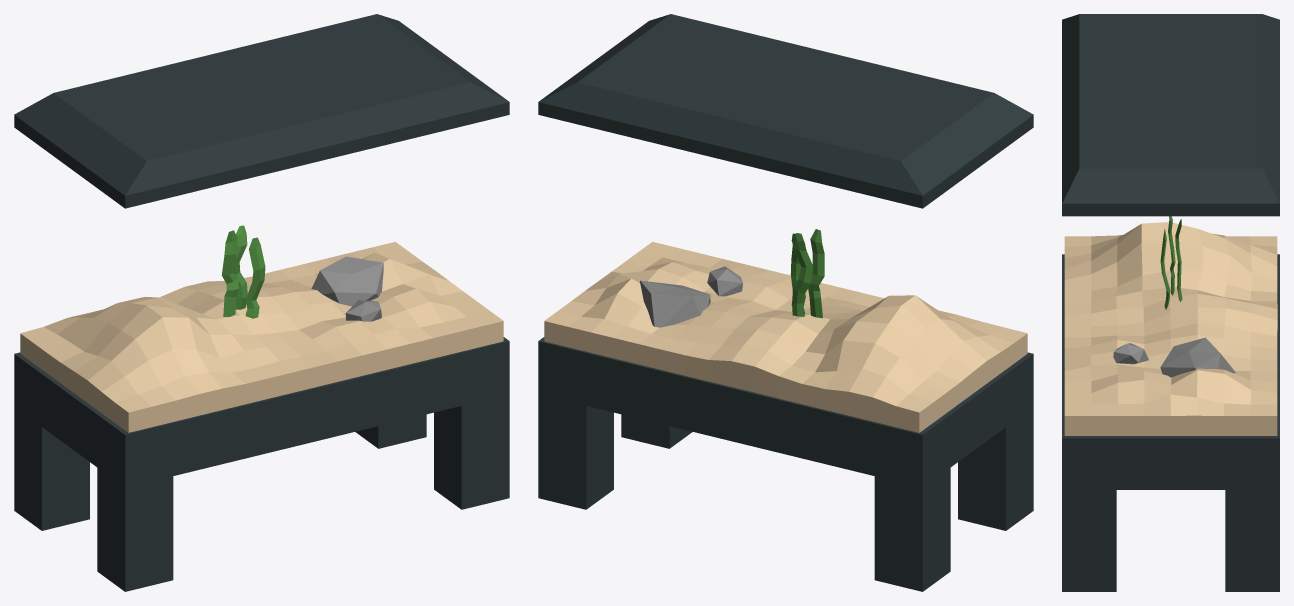
File: aquarium.fbx
3 views of the same model, side by side, from view 1: azimuth 30°, elevation 25°; view 2: azimuth 150°, elevation 25°; view 3: azimuth 270°, elevation 25° (orthographic). The views are drawn at different scales.
Visible parts, largest first — view 1: aqua_stand; view 2: aqua_stand; view 3: aqua_stand.
Boxes of the visible parts, bbox=[...] form: aqua_stand: bbox=[14, 14, 509, 591]; aqua_stand: bbox=[538, 14, 1033, 591]; aqua_stand: bbox=[1062, 14, 1279, 591].
Size of the model in its own units: 1009 by 1045 by 504.
